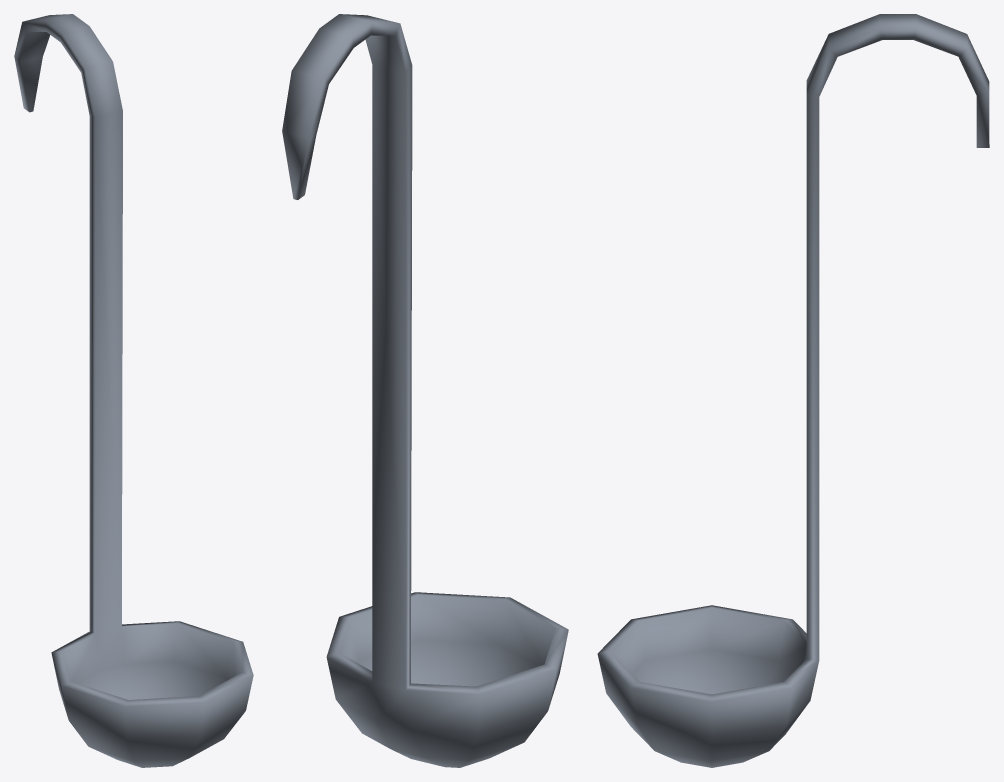
The model's file is Laddle.glb.
The picture shows the model from 3 angles, left to right: view 1: azimuth 30°, elevation 25°; view 2: azimuth 150°, elevation 25°; view 3: azimuth 270°, elevation 25°; orthographic projection. The views are drawn at different scales.
Parts seen in each view (by area): view 1: cutensils_laddle_2_Sphere; view 2: cutensils_laddle_2_Sphere; view 3: cutensils_laddle_2_Sphere.
Boxes of the visible parts, <box> form: cutensils_laddle_2_Sphere: <box>14,14,253,767</box>; cutensils_laddle_2_Sphere: <box>282,14,568,767</box>; cutensils_laddle_2_Sphere: <box>597,14,989,767</box>.
Bounding box in the file's own units: 2.04 × 7.22 × 3.5.
Materials: 1 (1 with a texture image).
